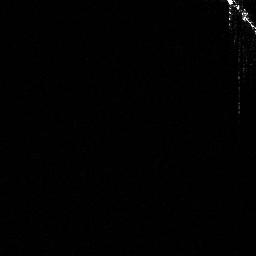ship: (223, 1, 256, 33)
